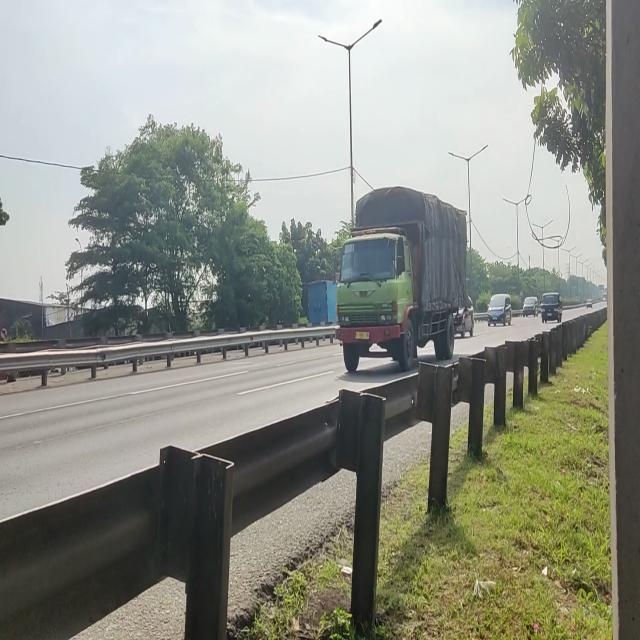Golongan II: (332, 204, 467, 376)
